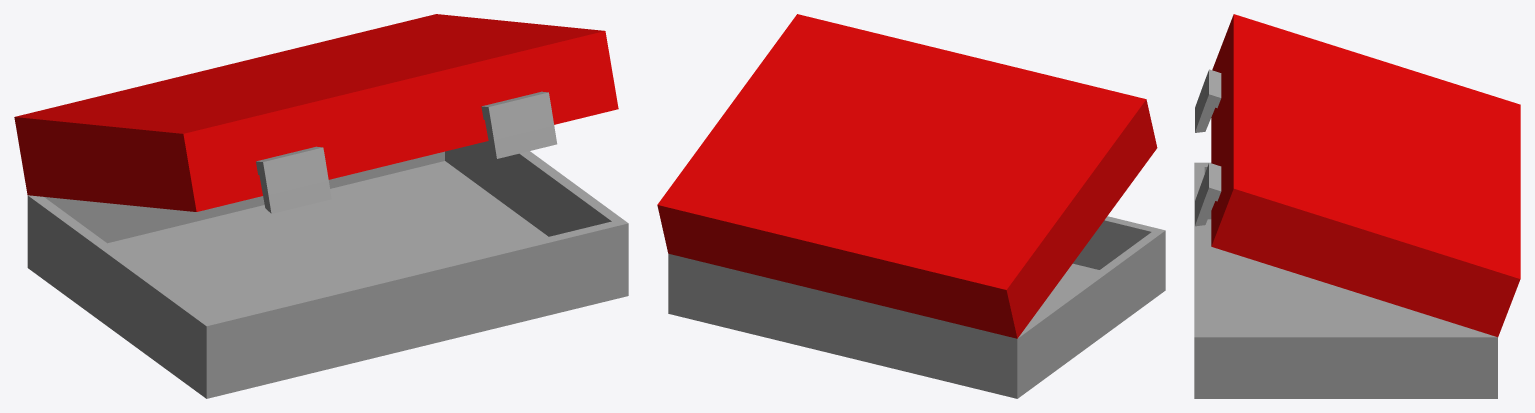
Rendered from botiquin .fbx.
3 views of the same model, side by side, from view 1: azimuth 30°, elevation 25°; view 2: azimuth 150°, elevation 25°; view 3: azimuth 270°, elevation 25° (orthographic). The views are drawn at different scales.
Parts seen in each view (by area): view 1: pCube5; view 2: pCube5; view 3: pCube5.
Part boxes in pixels (x1,y1,x2,y2): pCube5: (14, 14, 628, 398); pCube5: (657, 14, 1165, 398); pCube5: (1194, 14, 1520, 398).
Size of the model in its own units: 0.8031 by 0.4512 by 0.6337.
